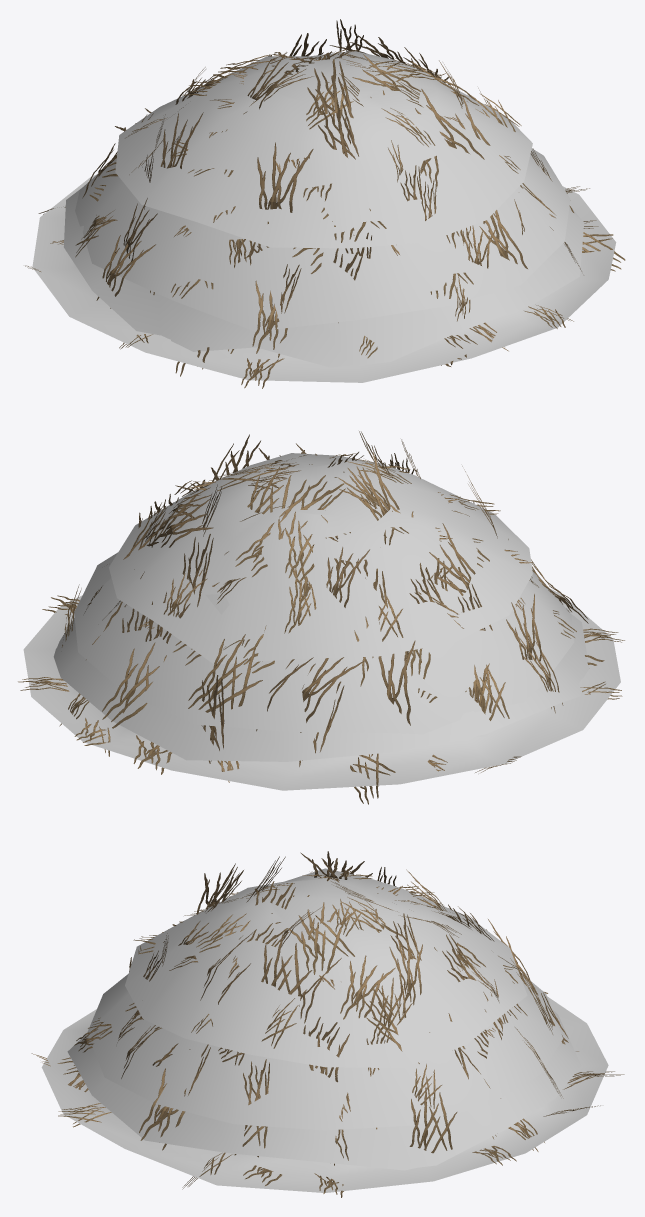
File: hayMound_lod1.fbx
3 renders of one model, top to bottom at view 1: azimuth 30°, elevation 25°; view 2: azimuth 150°, elevation 25°; view 3: azimuth 270°, elevation 25°, orthographic. The views are drawn at different scales.
Parts seen in each view (by area): view 1: hayMound_lod1; view 2: hayMound_lod1; view 3: hayMound_lod1.
Boxes of the visible parts, left/top/right/bottom form: hayMound_lod1: left=25, top=19, right=625, bottom=388; hayMound_lod1: left=18, top=431, right=624, bottom=804; hayMound_lod1: left=31, top=851, right=624, bottom=1197.
Size of the model in its own units: 2.97 by 1.32 by 3.14.
